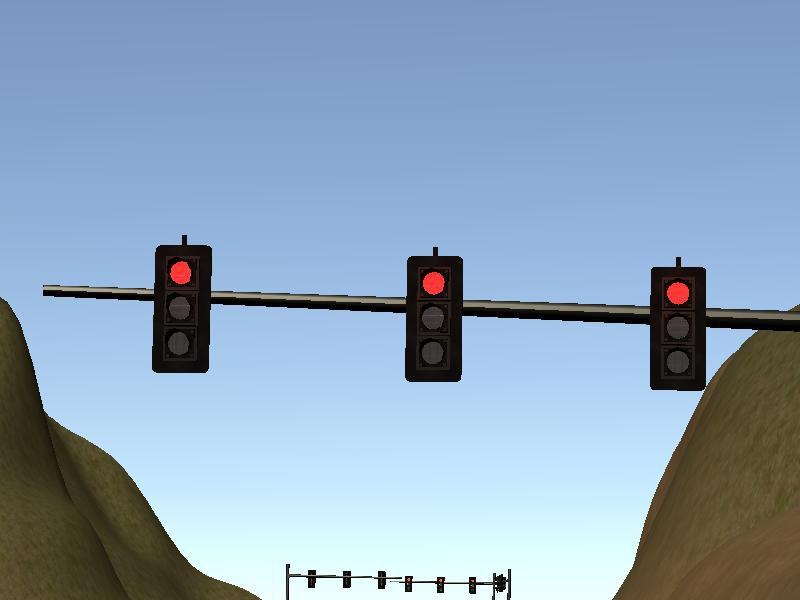red_light: (651, 269, 708, 391), (156, 247, 207, 373), (411, 258, 460, 380)
